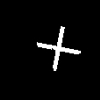single_crochet: (37, 26, 80, 70)
